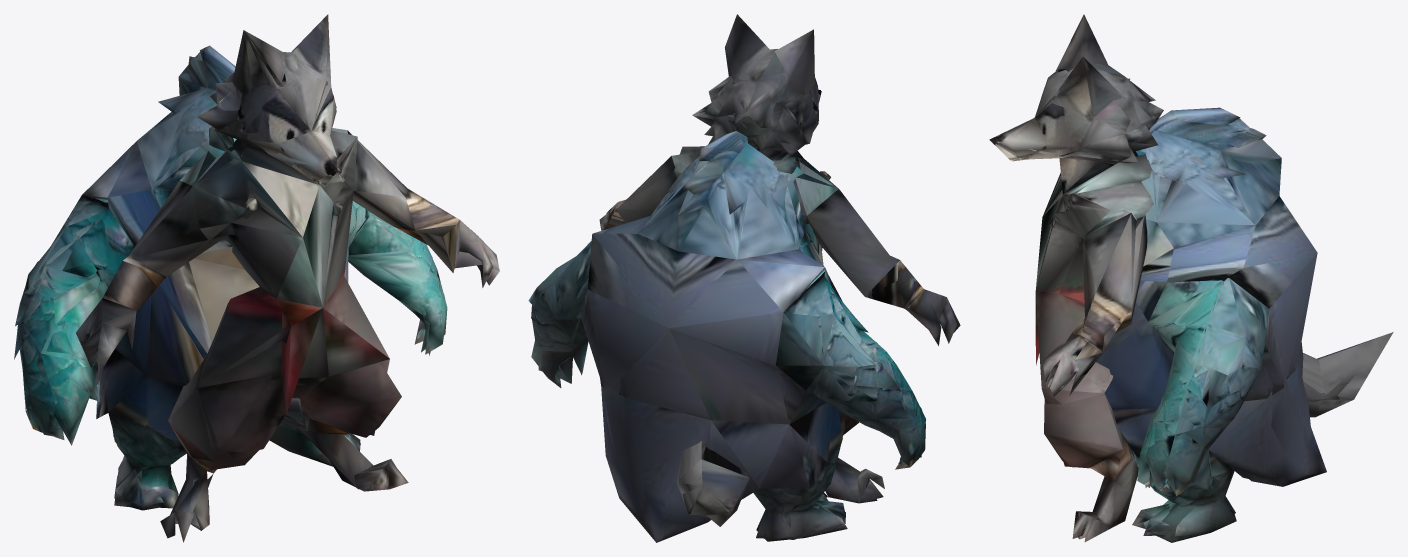
Rendered from crowd.glb.
3 views of the same model, side by side, from view 1: azimuth 30°, elevation 25°; view 2: azimuth 150°, elevation 25°; view 3: azimuth 270°, elevation 25° (orthographic). The views are drawn at different scales.
Visible parts, largest first — view 1: wolf_near, riverling_near, wolf_far, riverling_far; view 2: riverling_near, riverling_far, wolf_near, wolf_far; view 3: riverling_near, wolf_near, riverling_far, wolf_far.
Boxes of the visible parts, x1=… form: wolf_near: x1=76, y1=16, x2=499, y2=542; riverling_near: x1=14, y1=45, x2=446, y2=510; wolf_far: x1=89, y1=14, x2=482, y2=530; riverling_far: x1=14, y1=52, x2=447, y2=504; riverling_near: x1=528, y1=131, x2=925, y2=542; riverling_far: x1=531, y1=141, x2=925, y2=539; wolf_near: x1=599, y1=30, x2=960, y2=526; wolf_far: x1=606, y1=14, x2=946, y2=514; riverling_near: x1=1096, y1=107, x2=1326, y2=542; wolf_near: x1=993, y1=29, x2=1393, y2=541; riverling_far: x1=1136, y1=118, x2=1317, y2=538; wolf_far: x1=989, y1=14, x2=1392, y2=539.
Bounding box in the file's own units: 1.78 × 2 × 1.6.
2 materials, 2 textured.
